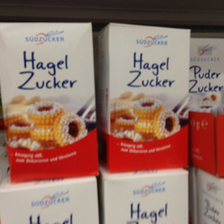sugar: (1, 20, 98, 183), (97, 21, 191, 172)
